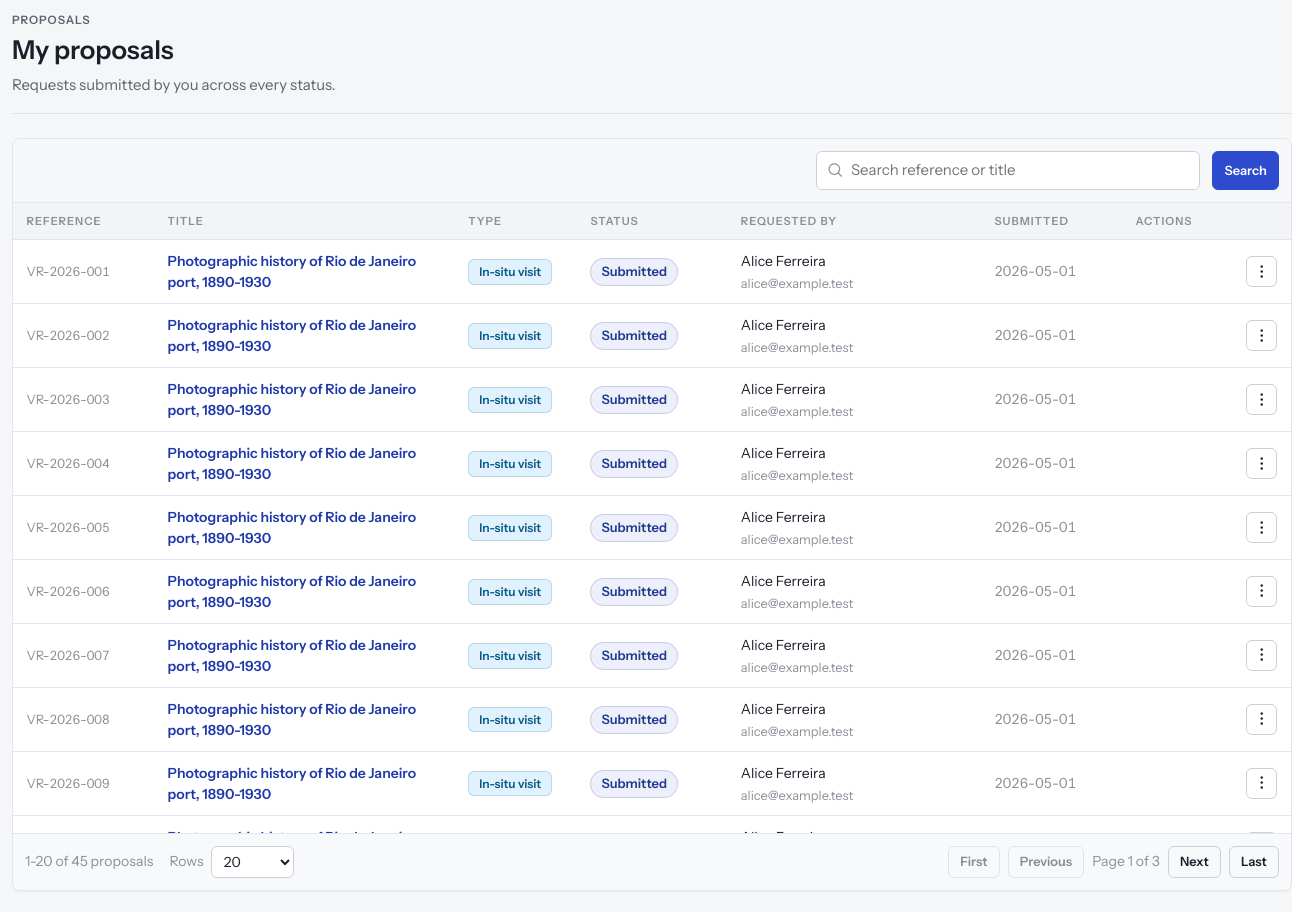
Scenario: ProposalsMyPageComponent › advances to the next page and re-queries with the new page index
The width and height of the screenshot is (1292, 912).
Click the button with aria-label "Next page" at (1194, 862), box x1=1168 y1=846 x2=1221 y2=878
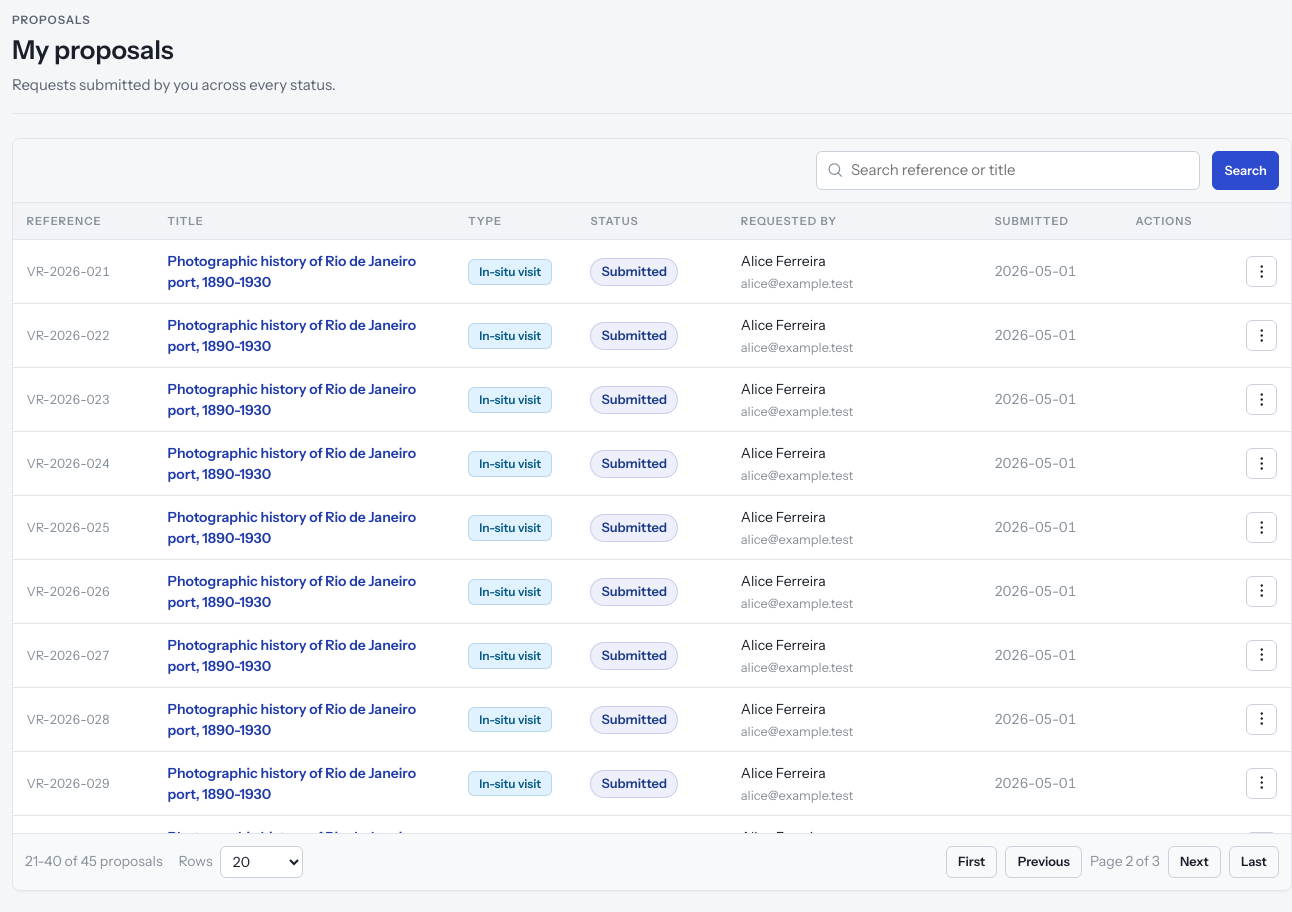
Result: the text "Page 2 of 3" is shown at x1=1090 y1=851 x2=1160 y2=872
